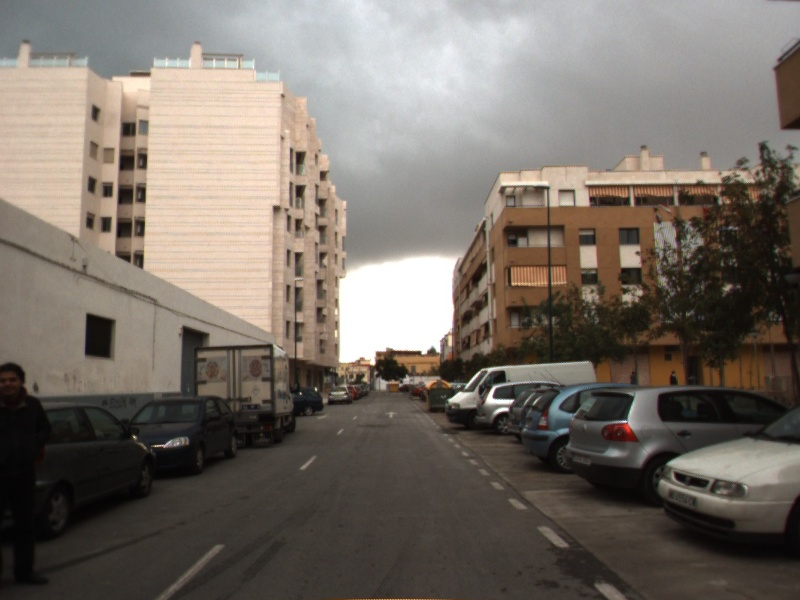STRAIGHT: (382, 409, 401, 420)
